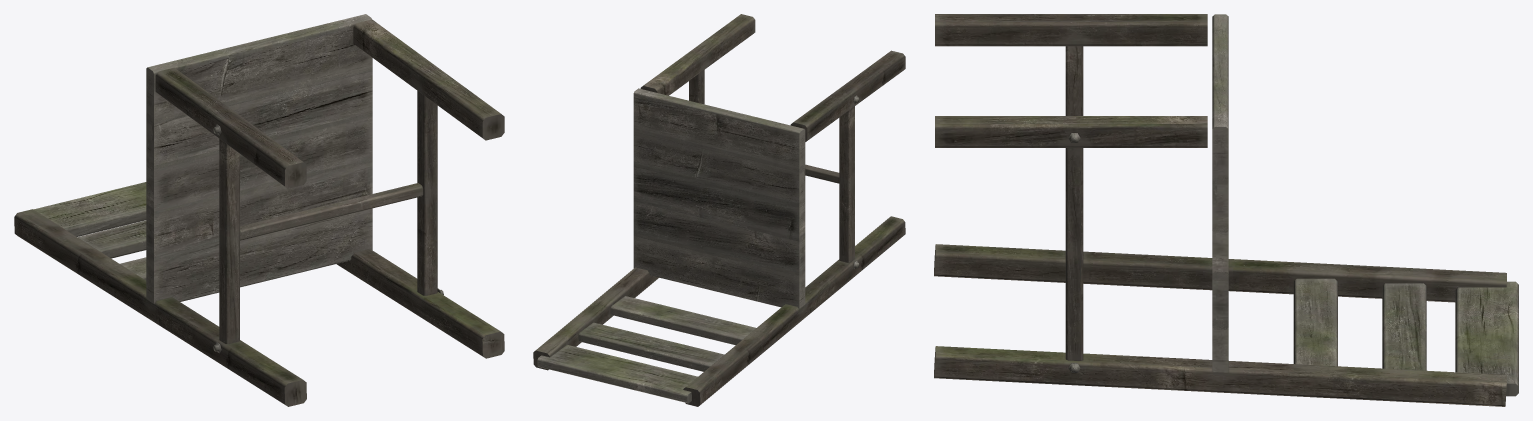
The model's file is chair.glb.
3 views of the same model, side by side, from view 1: azimuth 30°, elevation 25°; view 2: azimuth 150°, elevation 25°; view 3: azimuth 270°, elevation 25° (orthographic). The views are drawn at different scales.
Visible parts, largest first — view 1: chair; view 2: chair; view 3: chair.
Boxes of the visible parts, bbox=[...] form: chair: bbox=[14, 14, 504, 406]; chair: bbox=[533, 14, 905, 406]; chair: bbox=[934, 14, 1518, 406].
Size of the model in its own units: 0.4364 by 0.492 by 0.9212.
1 material, 1 textured.
